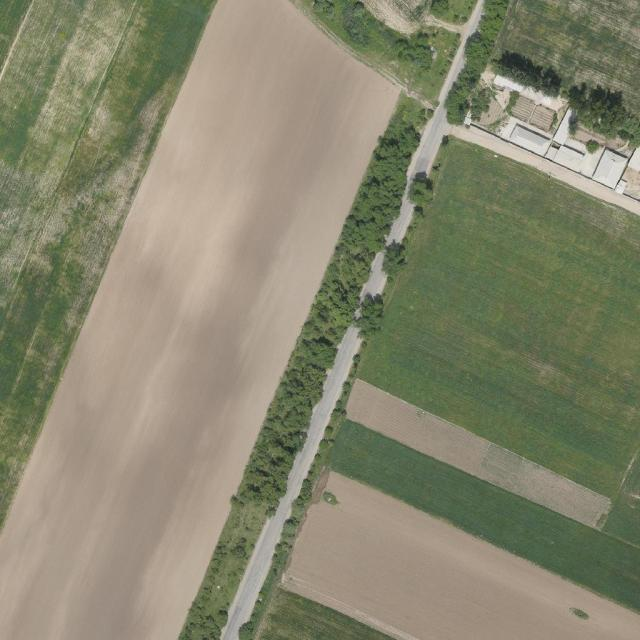agricultural_land: (342, 133, 640, 500), (340, 378, 617, 532)
building: (491, 74, 565, 114), (592, 149, 629, 190), (508, 123, 551, 158), (552, 142, 587, 172), (614, 179, 628, 195)
dryland: (275, 468, 640, 640)
greenland: (324, 415, 640, 613), (238, 352, 371, 640), (280, 0, 462, 104), (435, 0, 514, 128), (490, 44, 568, 100), (355, 293, 384, 338), (380, 240, 409, 281), (408, 171, 435, 208), (569, 607, 590, 619)
unmetalled_road: (379, 0, 494, 250), (357, 249, 397, 308)
